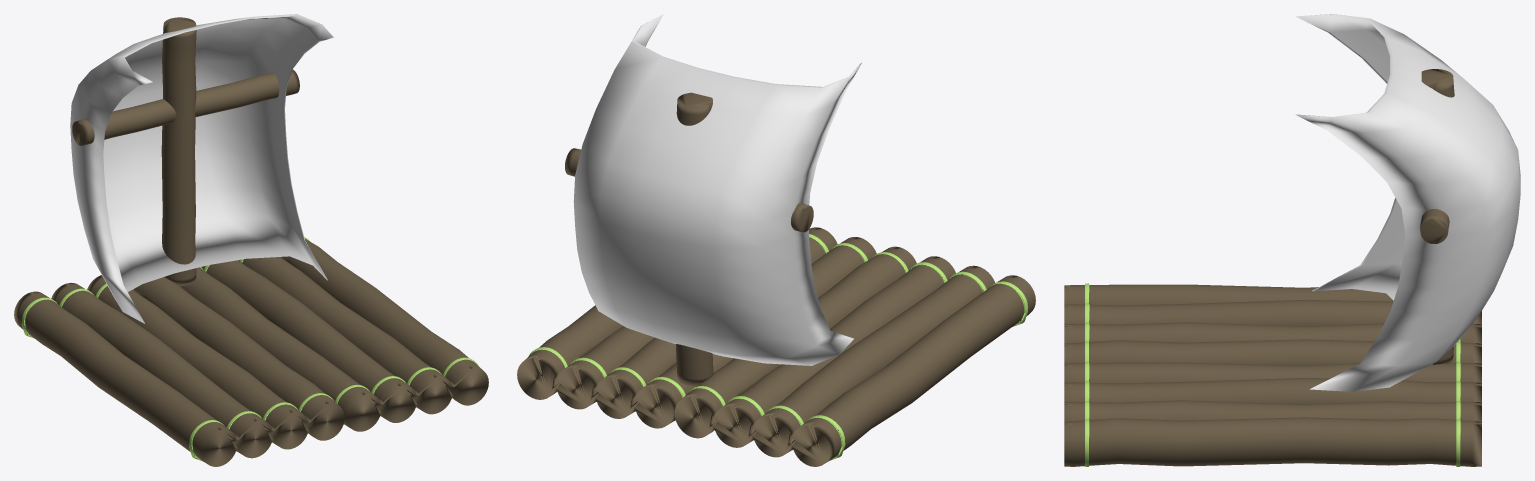
3 renders of one model, left to right at view 1: azimuth 30°, elevation 25°; view 2: azimuth 150°, elevation 25°; view 3: azimuth 270°, elevation 25°, orthographic. The views are drawn at different scales.
Parts seen in each view (by area): view 1: Cylinder.000, Cylinder.002; view 2: Cylinder.002, Cylinder.000; view 3: Cylinder.000, Cylinder.002.
Part boxes in pixels (x1,y1,x2,y2): Cylinder.000: [14, 237, 488, 466]; Cylinder.002: [70, 14, 334, 323]; Cylinder.002: [565, 14, 861, 385]; Cylinder.000: [517, 227, 1035, 466]; Cylinder.000: [1064, 283, 1481, 466]; Cylinder.002: [1295, 14, 1520, 391].
Size of the model in its own units: 620 by 617 by 762.
